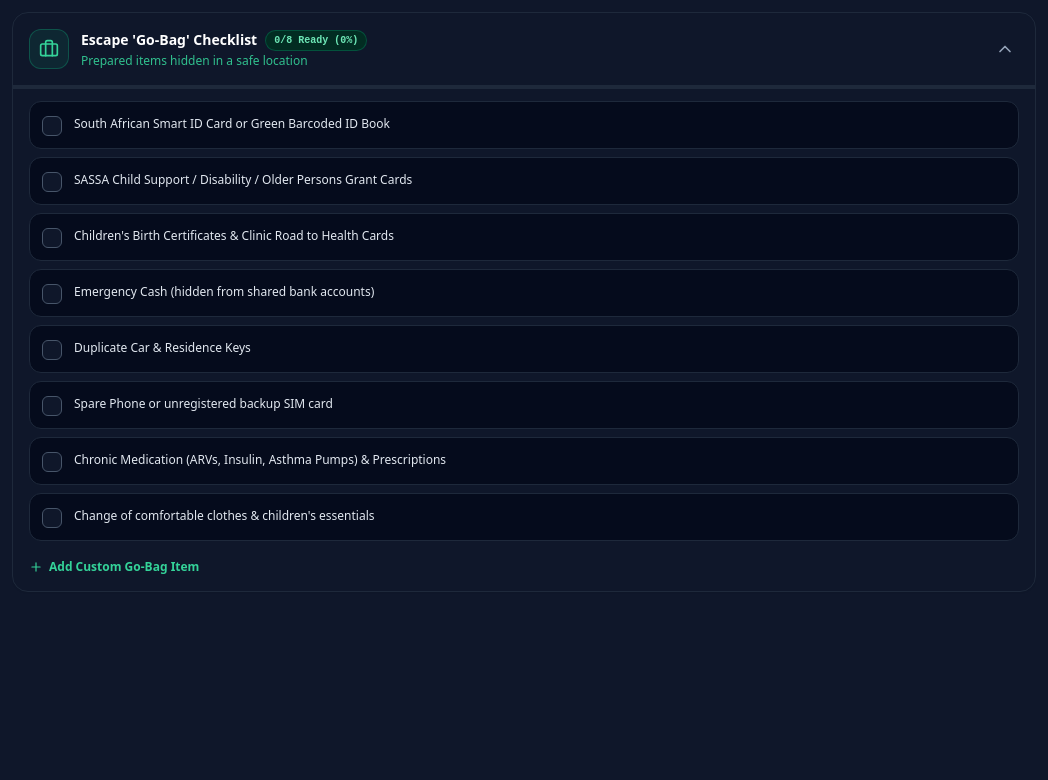
Scenario: EscapeGoBagChecklist Component › allows adding and removing custom escape items
This screenshot has width=1048, height=780.
Note: Click Add Custom Go-Bag Item
Click the button "Add Custom Go-Bag Item" at [114, 567], box [29,559,199,575]
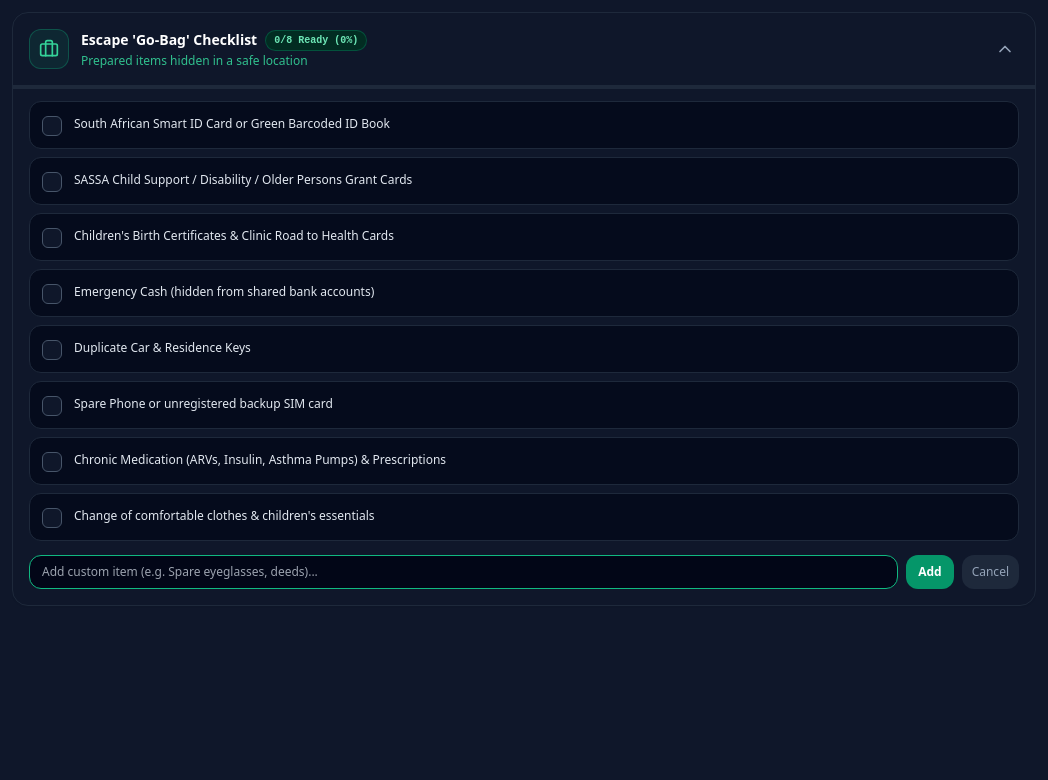
Type "Deed of sale & vehicle title" into the field with placeholder "Add custom item (e.g. Spare eyeglasses, deeds)..." at [464, 572], box [29,555,898,589]
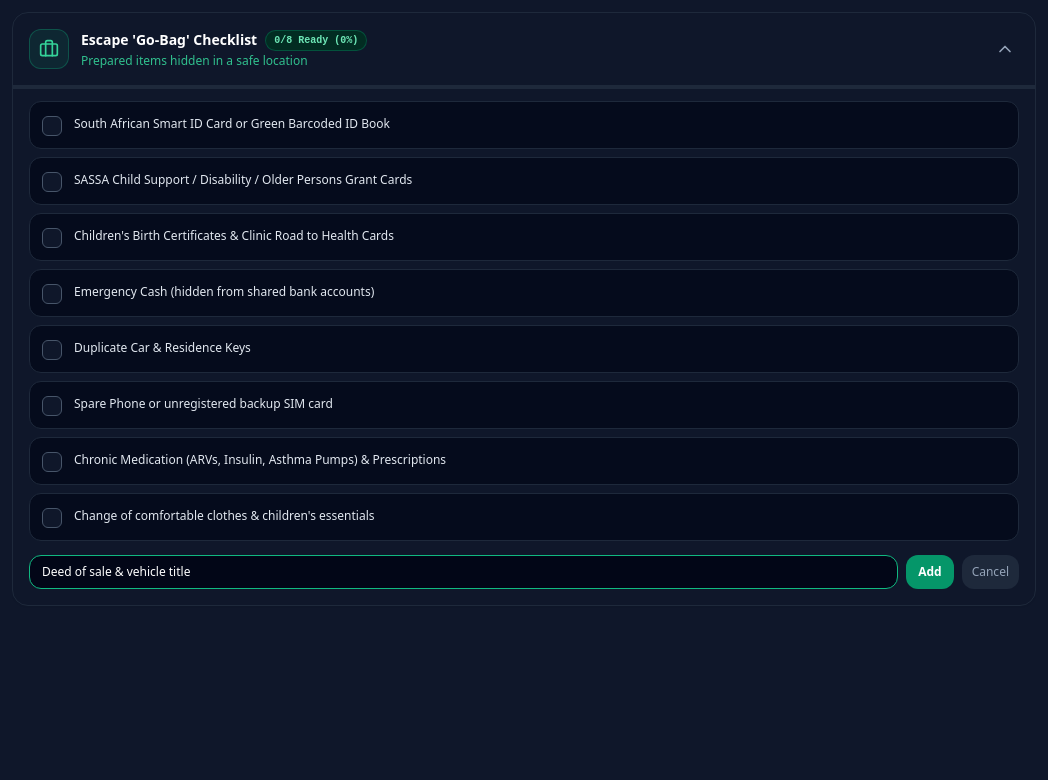
Click the button "Add" at [930, 572], box [906,555,954,589]
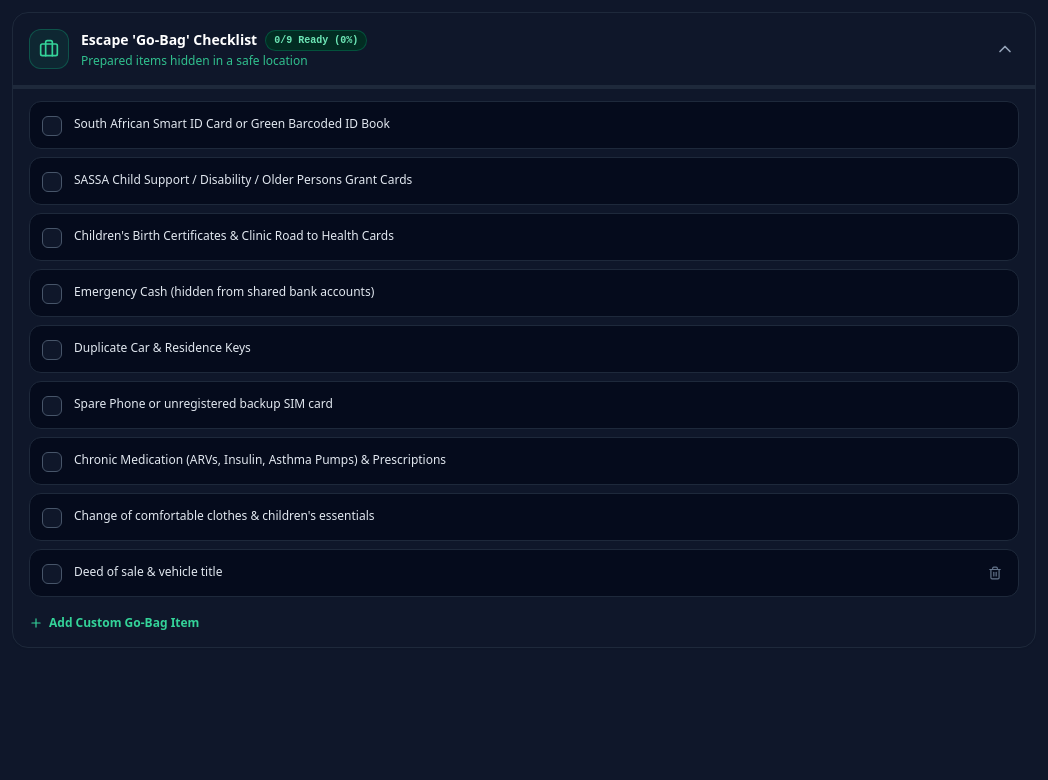
Result: the text "Deed of sale & vehicle title" is shown at [74,562,222,582]
Result: the text "0/9 Ready (0%)" is shown at [265,30,367,50]
